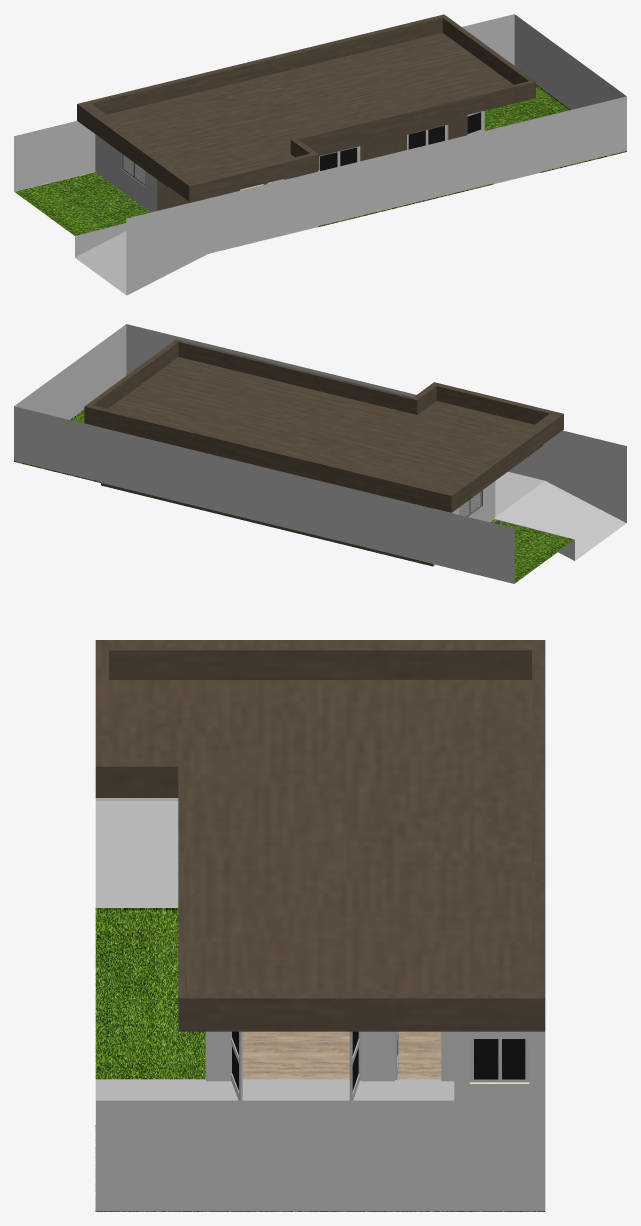
File: Casa_001.obj
The picture shows the model from 3 angles, top to bottom: view 1: azimuth 30°, elevation 25°; view 2: azimuth 150°, elevation 25°; view 3: azimuth 270°, elevation 25°; orthographic projection. The views are drawn at different scales.
Visible parts, largest first — view 1: polySurface505; view 2: polySurface505; view 3: polySurface505.
Part boxes in pixels (x1,y1,x2,y2): polySurface505: (14, 14, 626, 295); polySurface505: (14, 324, 626, 583); polySurface505: (95, 640, 545, 1211).
Bounding box in the file's own units: 5.3 × 0.9538 × 2.06.
